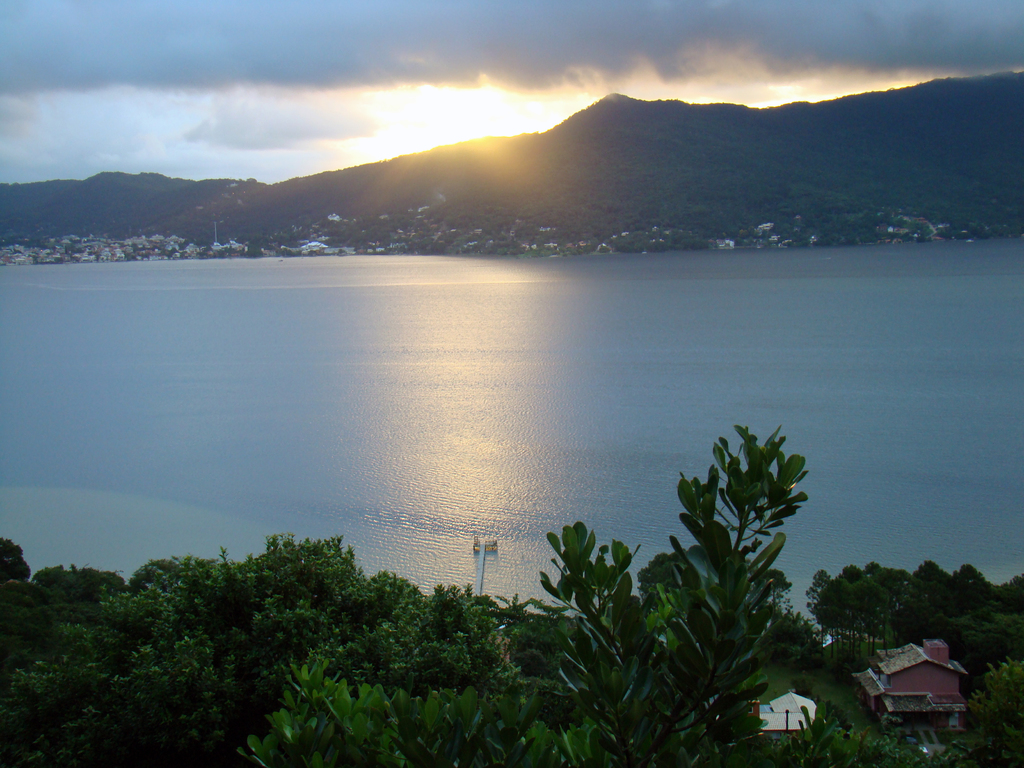Tree: (0, 420, 1023, 767), (804, 553, 1023, 701)
